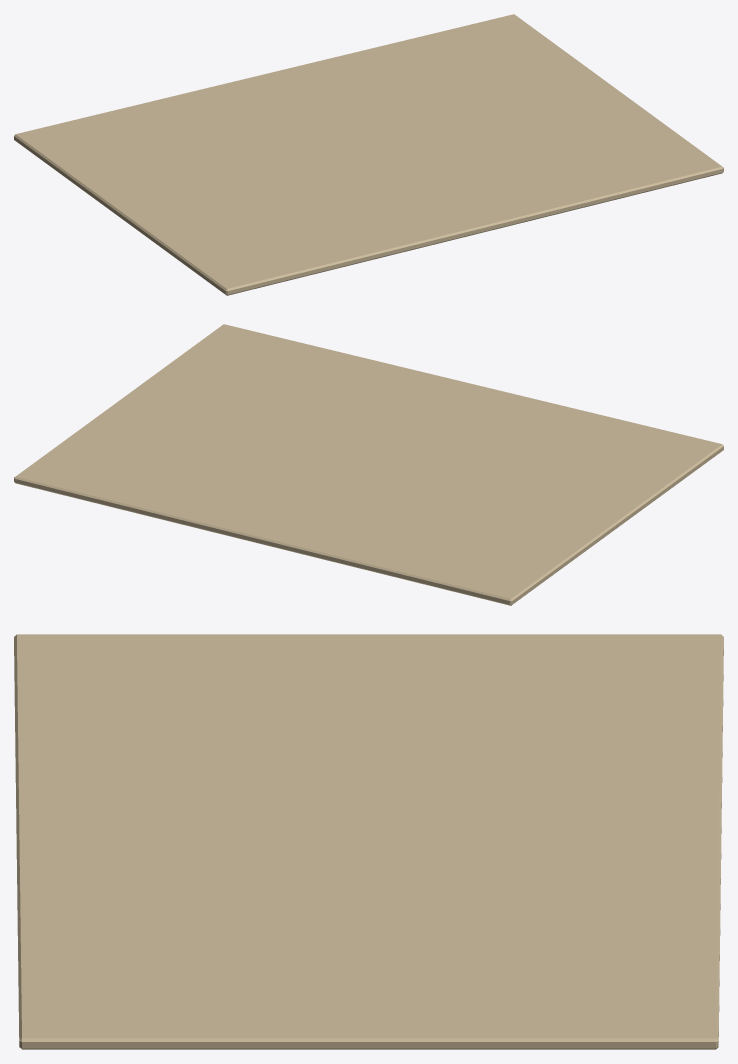
File: floor_slab.glb
3 views of the same model, one above another, from view 1: azimuth 30°, elevation 25°; view 2: azimuth 150°, elevation 25°; view 3: azimuth 270°, elevation 25° (orthographic). The views are drawn at different scales.
Visible parts, largest first — view 1: WB002V2_FloorSlab.005; view 2: WB002V2_FloorSlab.005; view 3: WB002V2_FloorSlab.005.
Part boxes in pixels (bbox=[...]): WB002V2_FloorSlab.005: bbox=[14, 14, 723, 295]; WB002V2_FloorSlab.005: bbox=[14, 324, 723, 605]; WB002V2_FloorSlab.005: bbox=[14, 634, 723, 1049].
Size of the model in its own units: 15.3 by 0.2 by 11.3.
